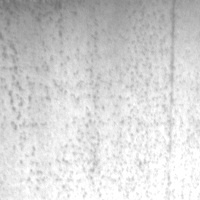pitted_surface: (0, 4, 191, 197)
